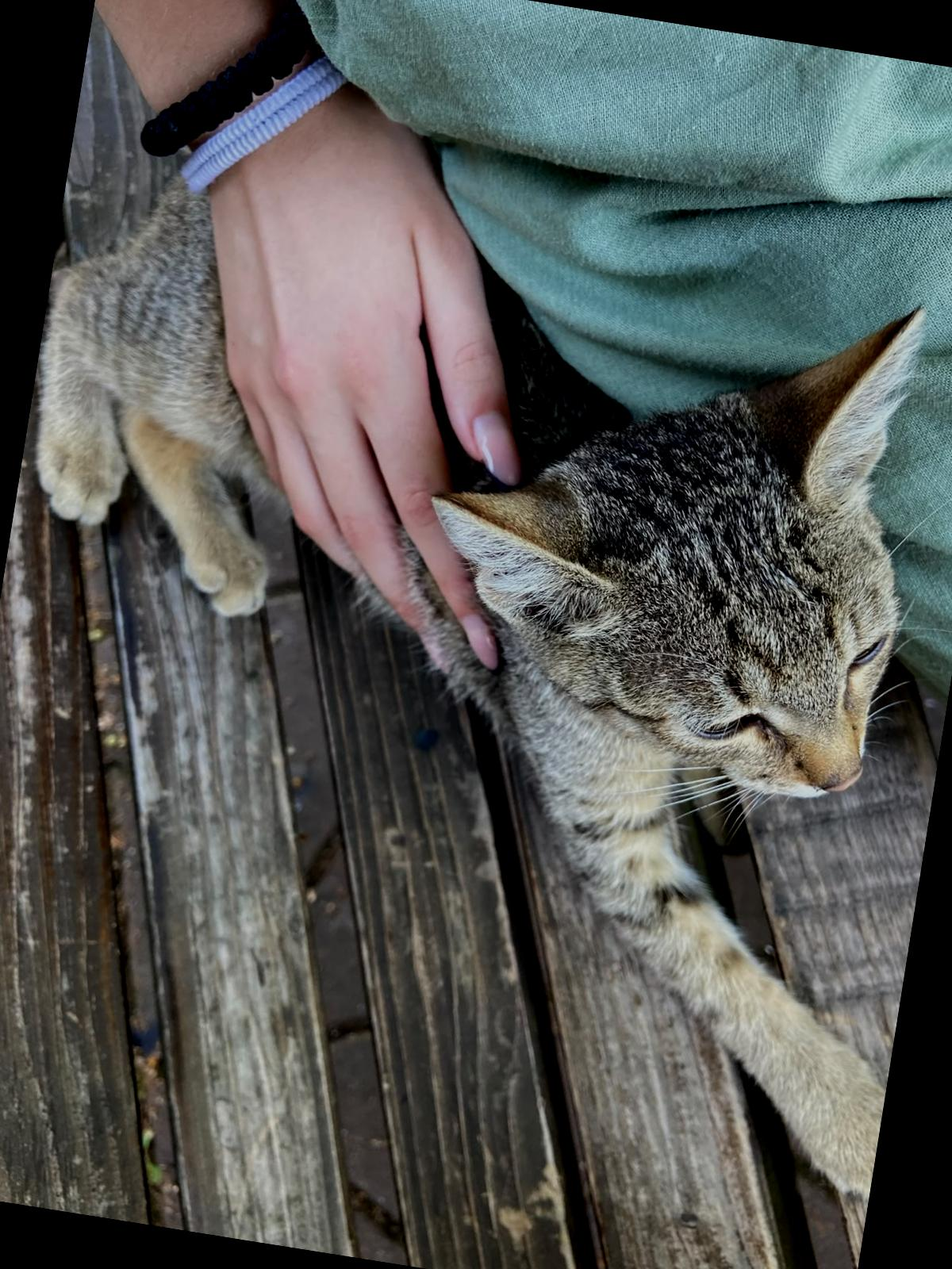macka: (0, 150, 952, 1194)
